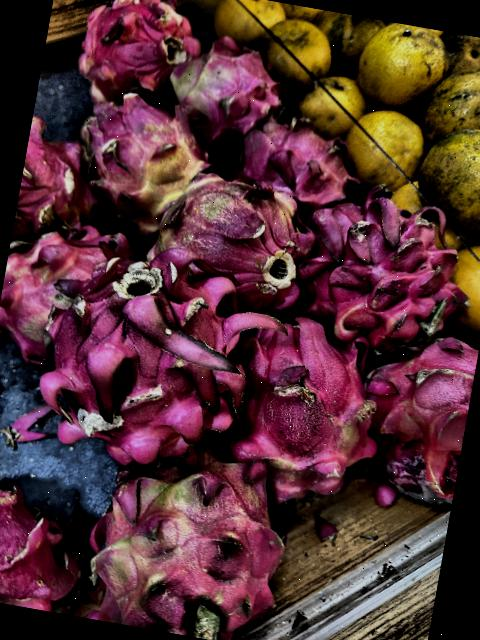buah-naga-belum-matang: (84, 434, 291, 640), (145, 154, 313, 313), (64, 76, 218, 232), (158, 27, 292, 157)
buah-naga-matang: (49, 245, 242, 463), (289, 174, 480, 362), (209, 298, 382, 496), (347, 304, 480, 495), (230, 104, 371, 220), (0, 467, 95, 615), (74, 0, 205, 107), (0, 213, 89, 357), (15, 120, 104, 232)
